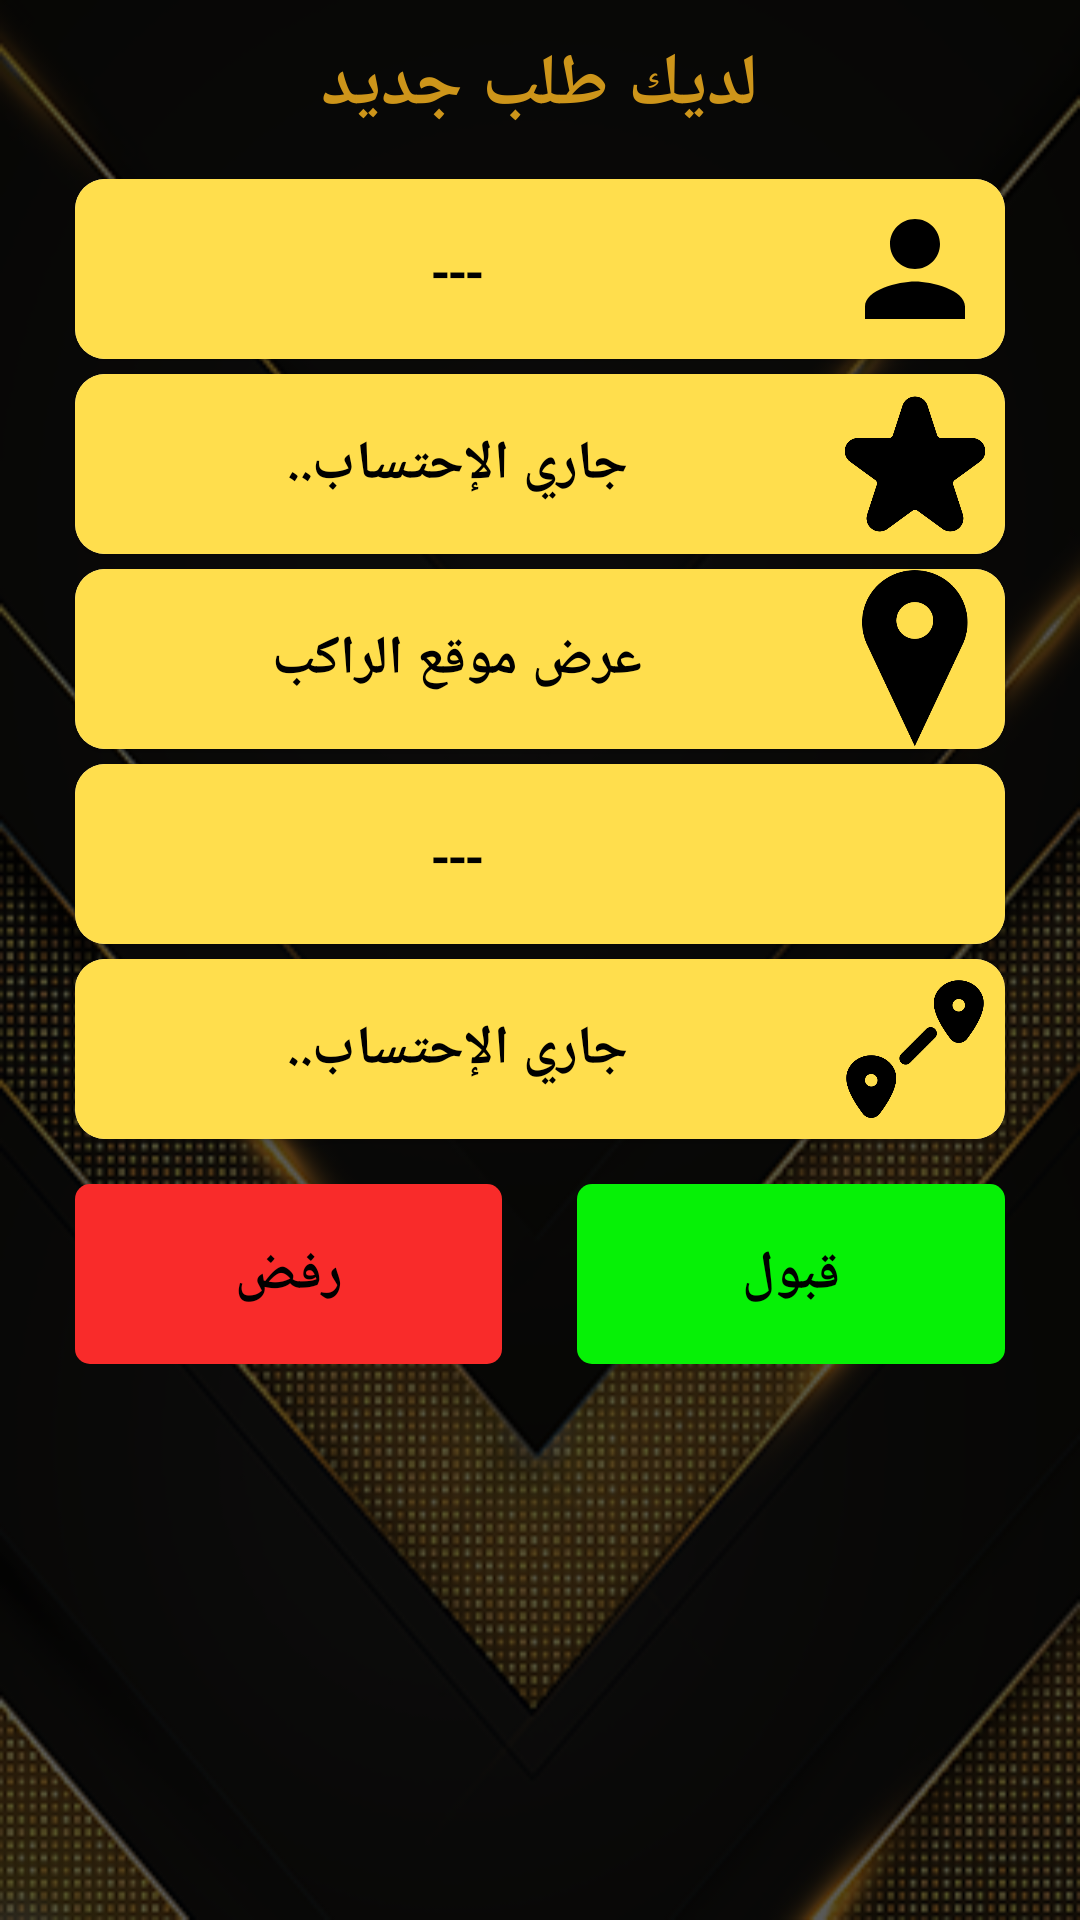

Point at icon controls on the screen. Image size 1080×1920, points as point (x, y).
distance: point (915, 1049)
person: point (915, 269)
rate: point (915, 464)
